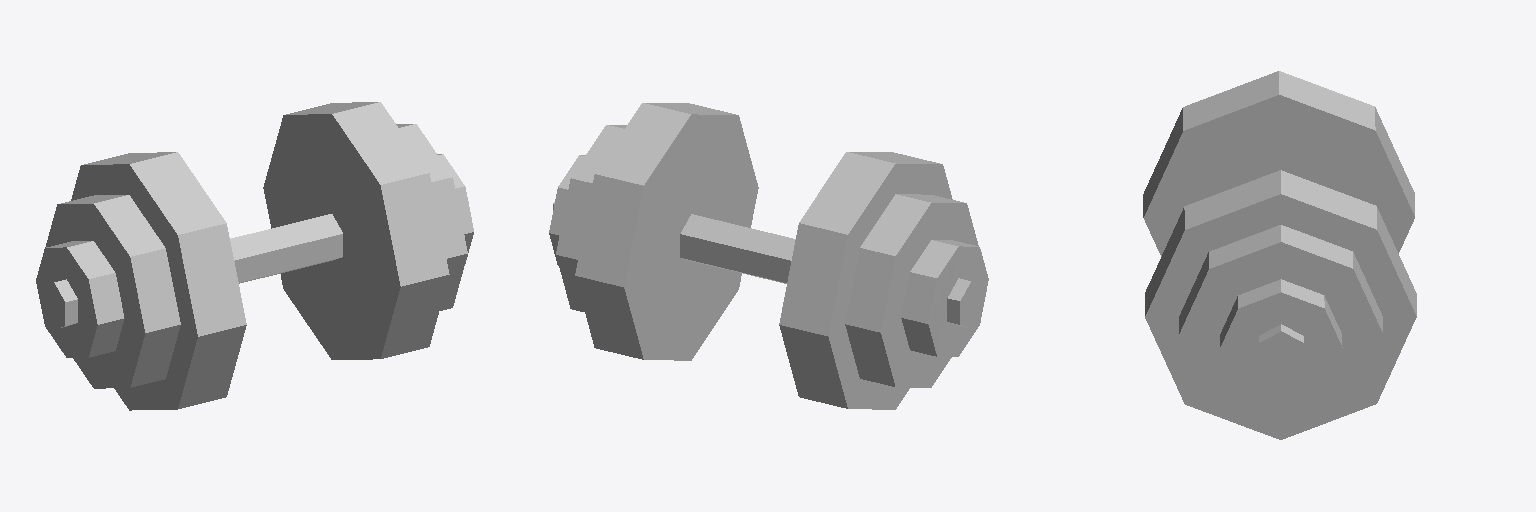
The model's file is dumbbell_002.obj.
The picture shows the model from 3 angles: view 1: azimuth 30°, elevation 25°; view 2: azimuth 150°, elevation 25°; view 3: azimuth 270°, elevation 25°; orthographic projection.
Parts seen in each view (by area): view 1: dumbbell_002; view 2: dumbbell_002; view 3: dumbbell_002.
Boxes of the visible parts, x1=… form: dumbbell_002: x1=36, y1=102, x2=473, y2=410; dumbbell_002: x1=549, y1=103, x2=988, y2=409; dumbbell_002: x1=1143, y1=71, x2=1416, y2=439.
Bounding box in the file's own units: 0.3994 × 0.2318 × 0.2333.